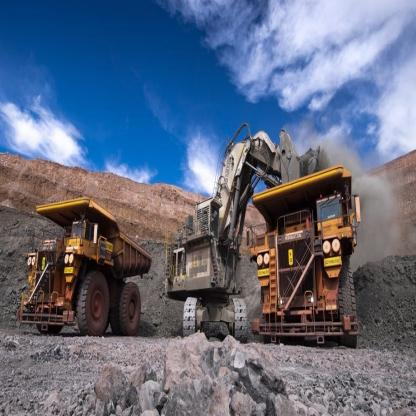dump_truck: (248, 158, 362, 356), (16, 186, 150, 351)
excavator: (159, 112, 262, 338)
